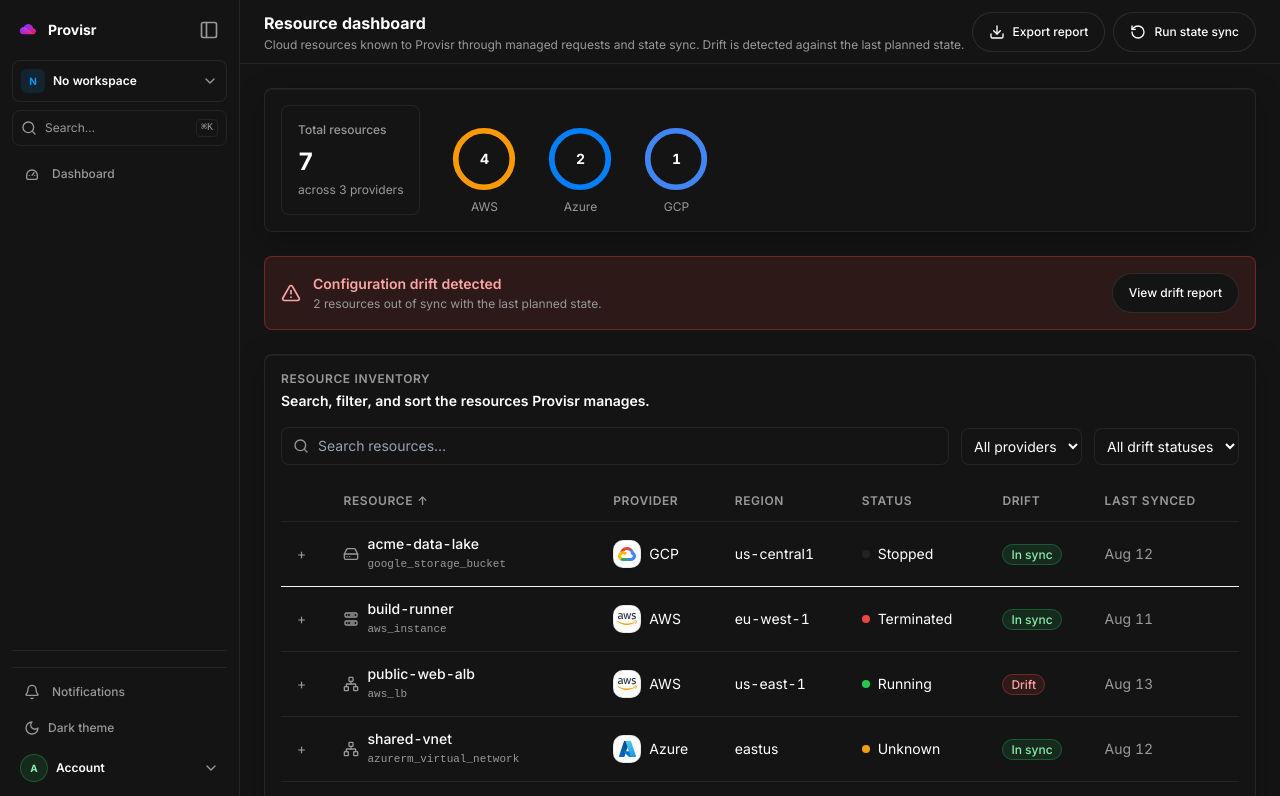
Scenario: ResourcesPage › handles export report action and displays feedback
expect the text "Resource inventory" is shown: met, box left=281, top=371, right=430, bottom=386
Click the button "Export report" at coordinates (1038, 32), box left=972, top=12, right=1105, bottom=52
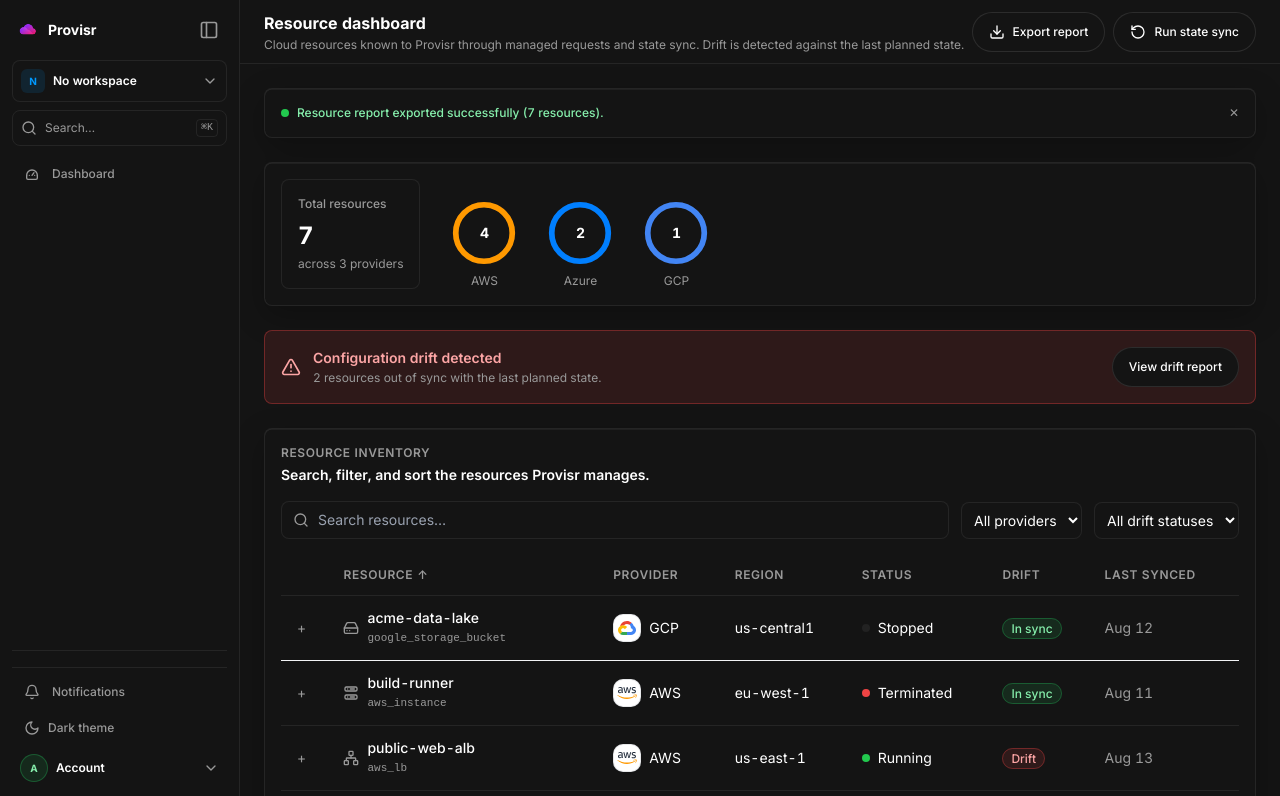
expect the text "Resource report exported successfully (7 resources)." is shown: met, box left=297, top=105, right=604, bottom=121
# Dismiss feedback
Click the button named "Dismiss feedback" at coordinates (1234, 113), box left=1229, top=105, right=1239, bottom=121
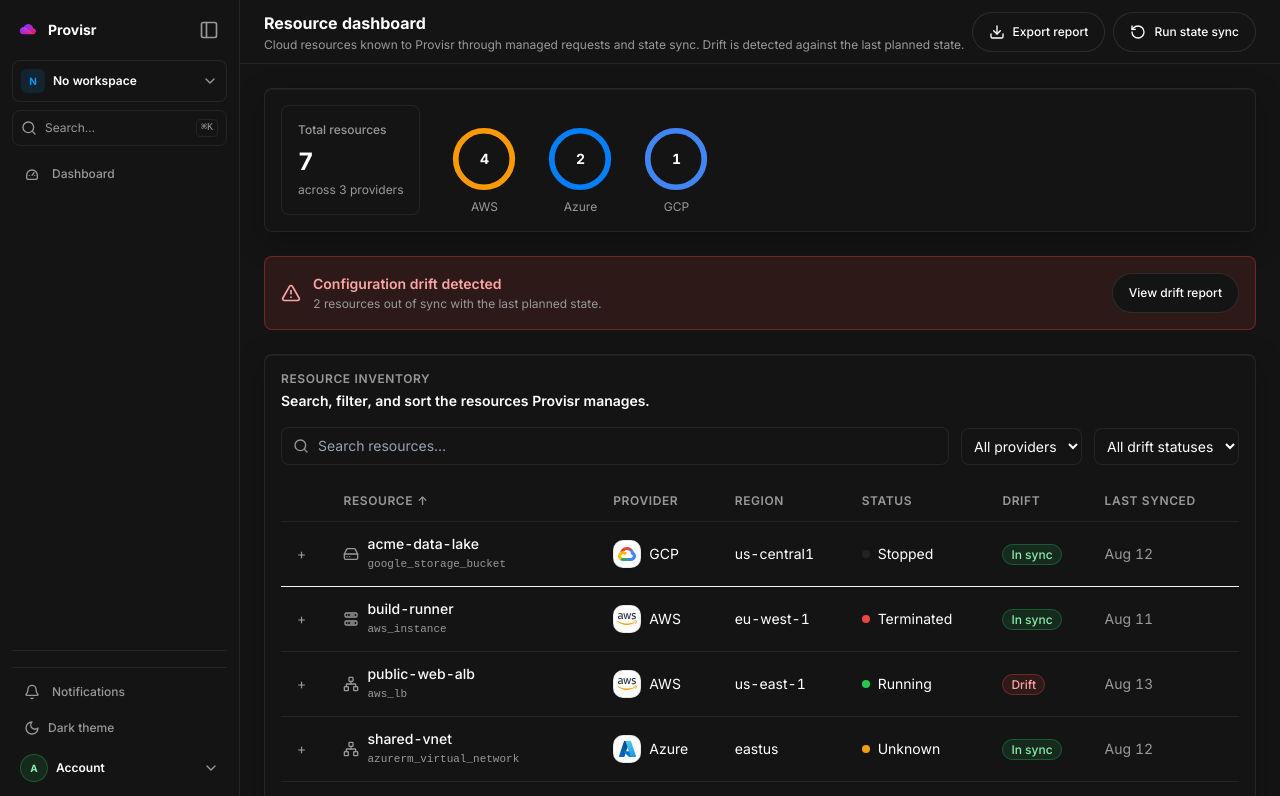
expect the text "Resource report exported successfully" is gone: met
